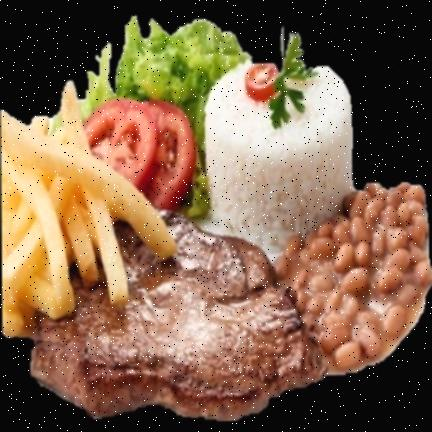beans: (273, 186, 431, 378)
meat: (28, 211, 328, 417)
potato: (1, 79, 178, 341)
rice: (206, 59, 353, 245)
salad: (80, 13, 250, 217)
tomato: (84, 100, 191, 210), (244, 63, 279, 96)
